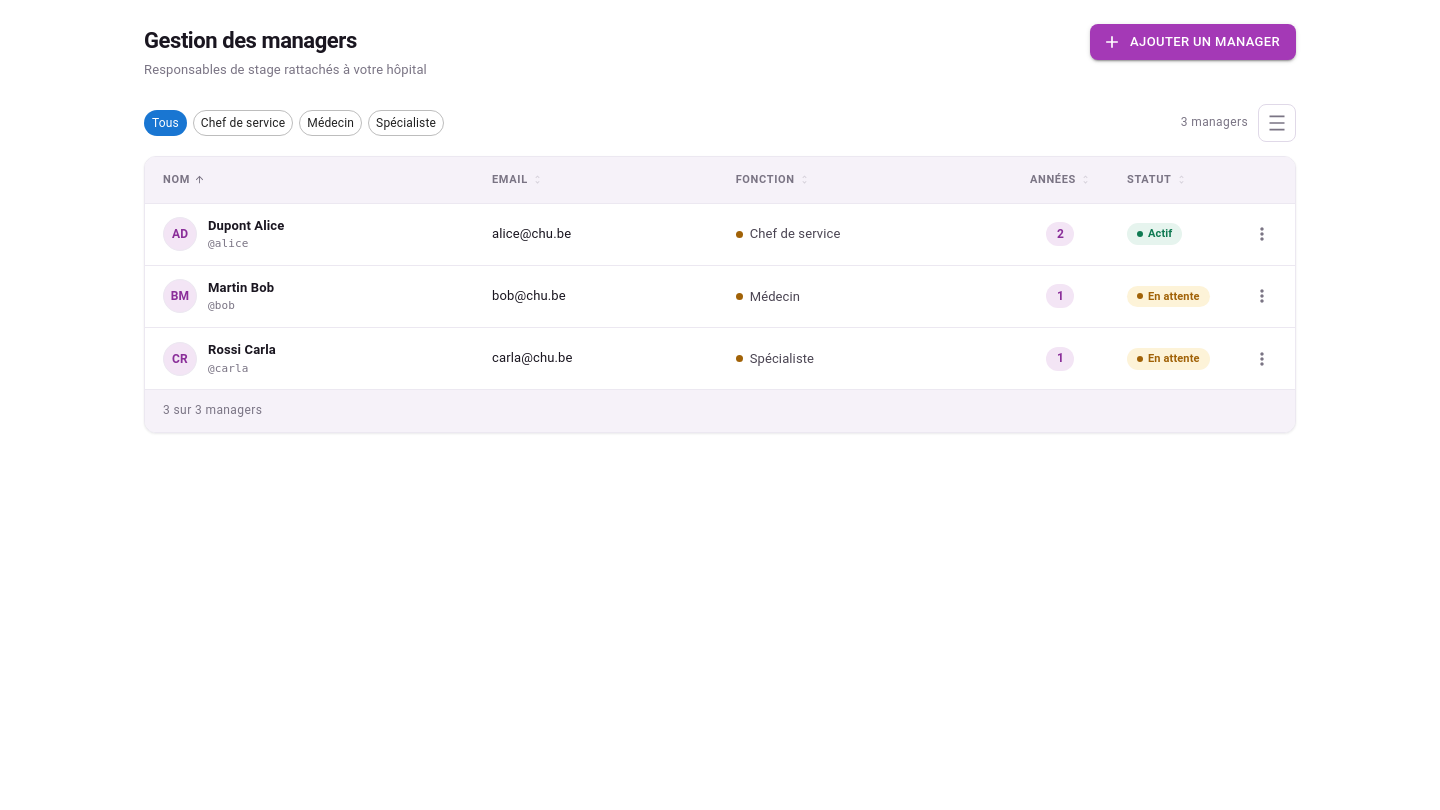
Test: HospitalAdminManagersPage › drawer lists all years for a manager with multiple years
The width and height of the screenshot is (1440, 810).
Click the text "Dupont Alice" at (246, 226), box [208,216,284,235]
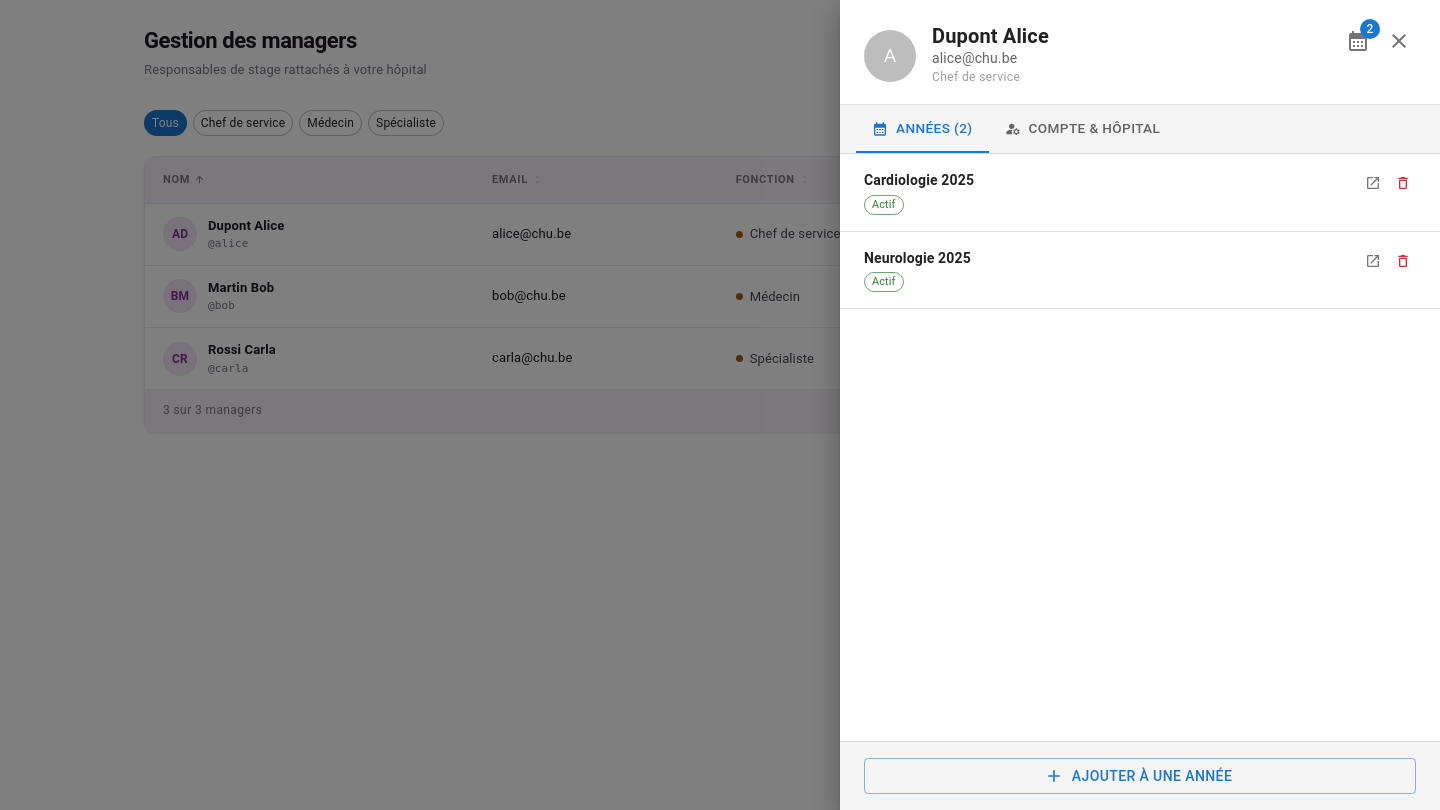
expect the text "Cardiologie 2025" is shown: met, box [864,172,974,188]
expect the text "Neurologie 2025" is shown: met, box [864,250,971,266]
